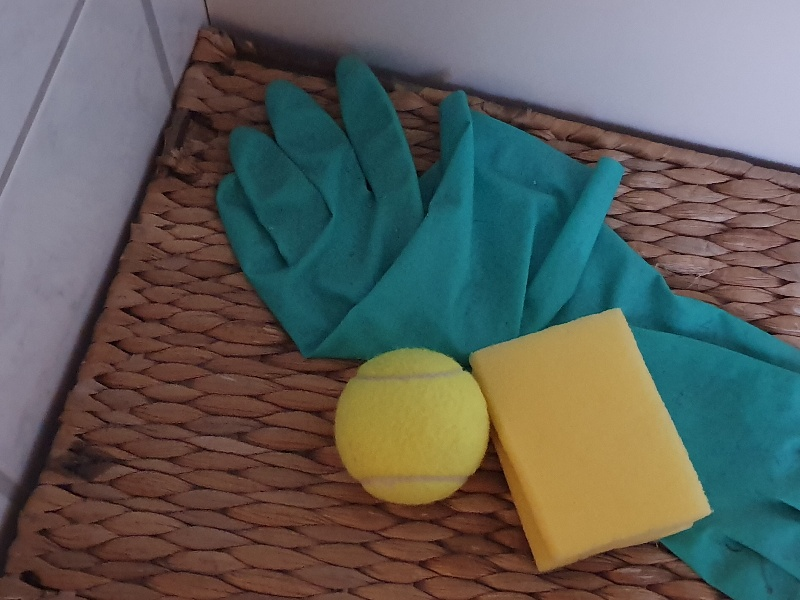Tennisball: (314, 336, 497, 515)
